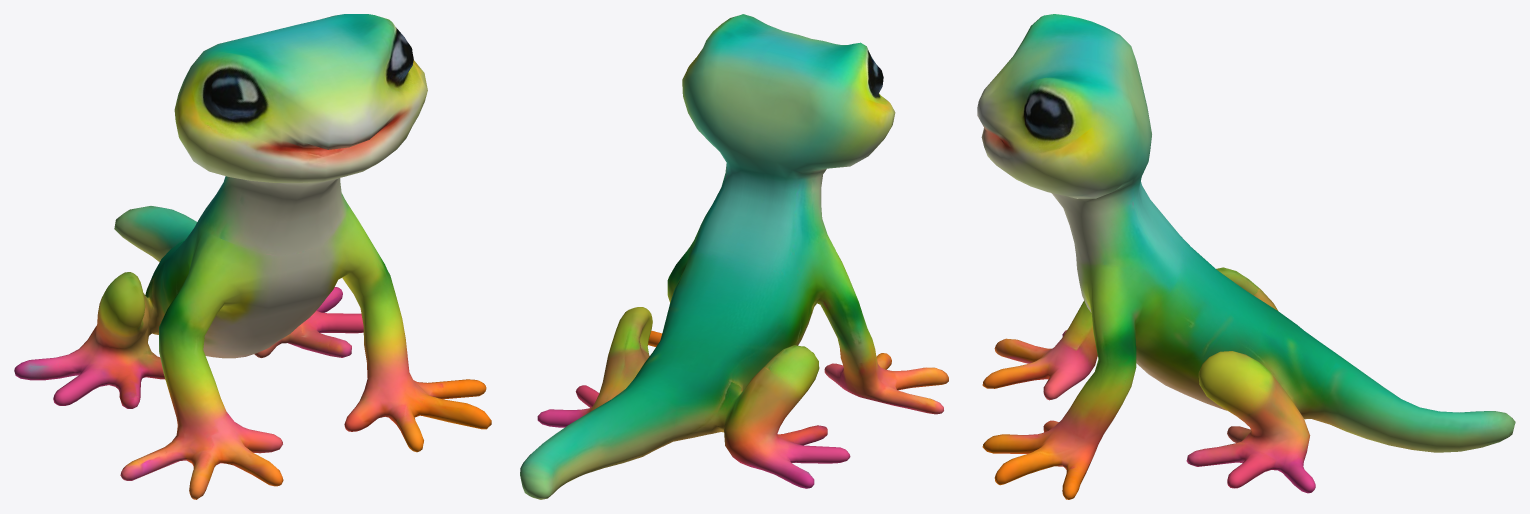
The model's file is gecko.glb.
3 renders of one model, left to right at view 1: azimuth 30°, elevation 25°; view 2: azimuth 150°, elevation 25°; view 3: azimuth 270°, elevation 25°, orthographic. The views are drawn at different scales.
Parts seen in each view (by area): view 1: Gecko; view 2: Gecko; view 3: Gecko.
Part boxes in pixels (bbox=[...]): Gecko: bbox=[14, 14, 491, 499]; Gecko: bbox=[520, 14, 948, 499]; Gecko: bbox=[977, 14, 1515, 499].
Bounding box in the file's own units: 1.44 × 1.54 × 2.01.
1 material, 1 textured.
